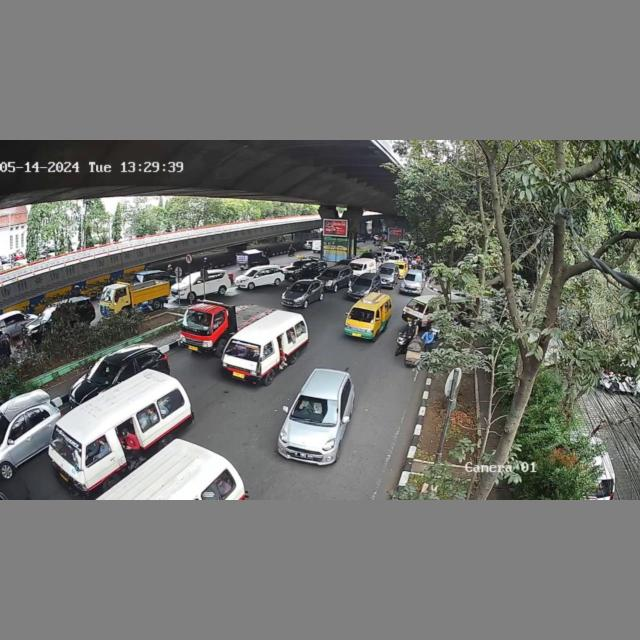windshield: (289, 393, 340, 430), (224, 338, 263, 361), (182, 308, 217, 331), (87, 360, 126, 380), (347, 308, 377, 323), (287, 281, 310, 292)
